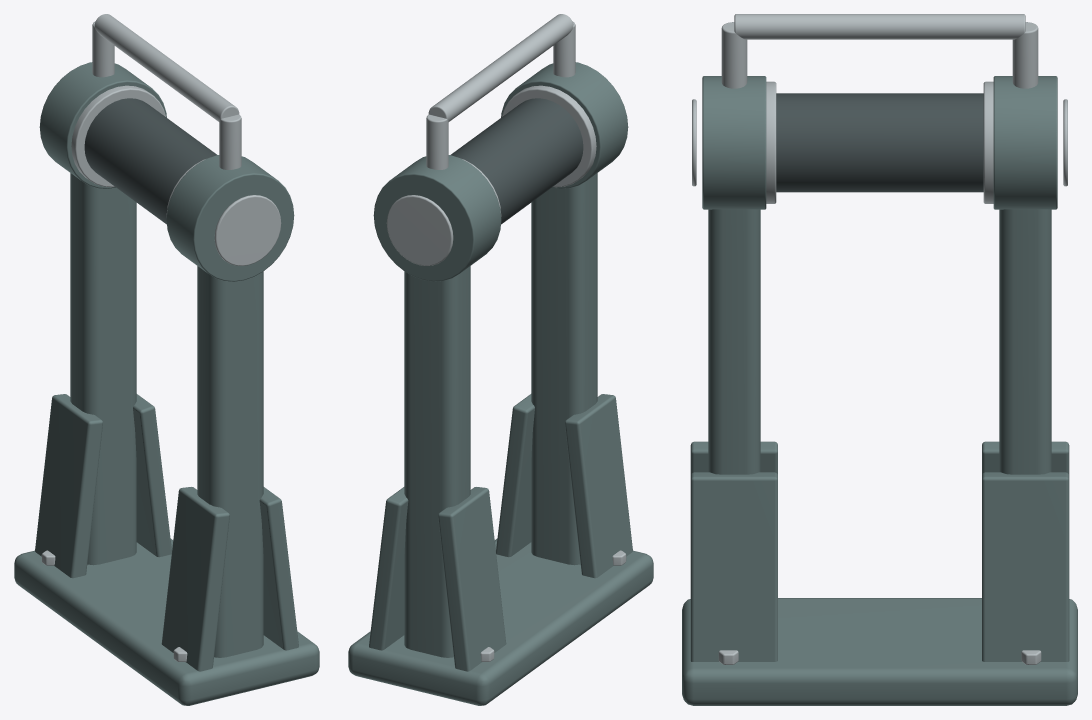
Rendered from deck_roller_fairlead.glb.
3 renders of one model, left to right at view 1: azimuth 30°, elevation 25°; view 2: azimuth 150°, elevation 25°; view 3: azimuth 270°, elevation 25°, orthographic. The views are drawn at different scales.
Visible parts, largest first — view 1: Warm white painted steel, Fixed_Stainless, Fixed_DarkMetal; view 2: Warm white painted steel, Fixed_Stainless, Fixed_DarkMetal; view 3: Warm white painted steel, Fixed_DarkMetal, Fixed_Stainless.
Boxes of the visible parts, x1,y1,x2,y2 form: Warm white painted steel: (14, 62, 319, 705); Fixed_Stainless: (41, 14, 281, 661); Fixed_DarkMetal: (84, 98, 216, 224); Warm white painted steel: (348, 62, 653, 705); Fixed_Stainless: (386, 14, 626, 661); Fixed_DarkMetal: (451, 98, 583, 224); Warm white painted steel: (682, 76, 1077, 705); Fixed_DarkMetal: (776, 93, 983, 192); Fixed_Stainless: (692, 14, 1067, 664).
Size of the model in its own units: 0.32 by 1.24 by 0.68.
